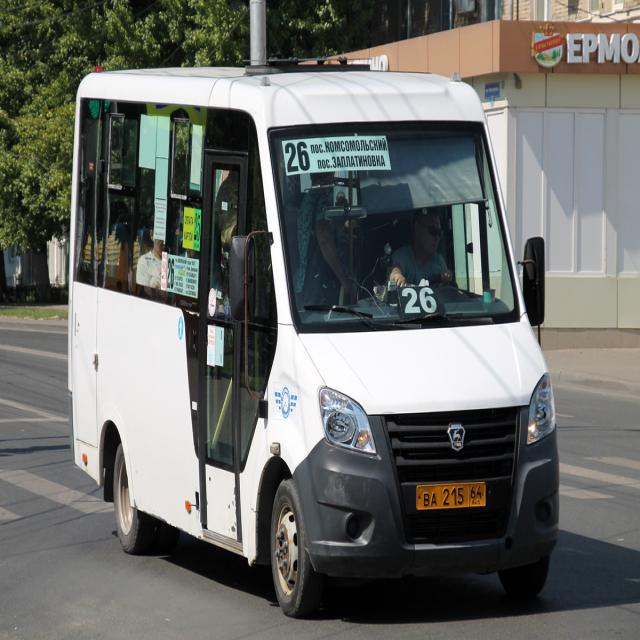number-of-bus: (400, 287, 442, 318), (284, 138, 314, 174)
